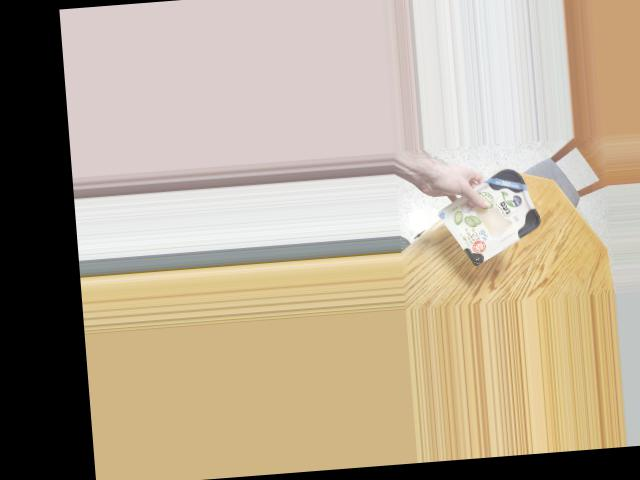cheese: (447, 168, 541, 261)
